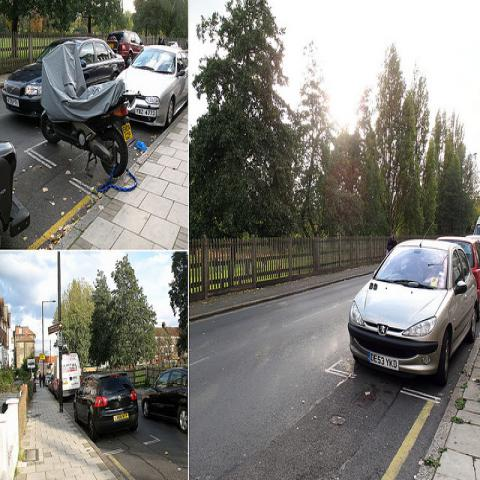car: (348, 240, 479, 386), (116, 46, 189, 128), (73, 373, 139, 444), (140, 369, 188, 431), (0, 140, 30, 237), (439, 236, 479, 304), (77, 39, 125, 86), (106, 31, 147, 68), (45, 376, 51, 388)
motorcycle: (40, 40, 133, 180)
